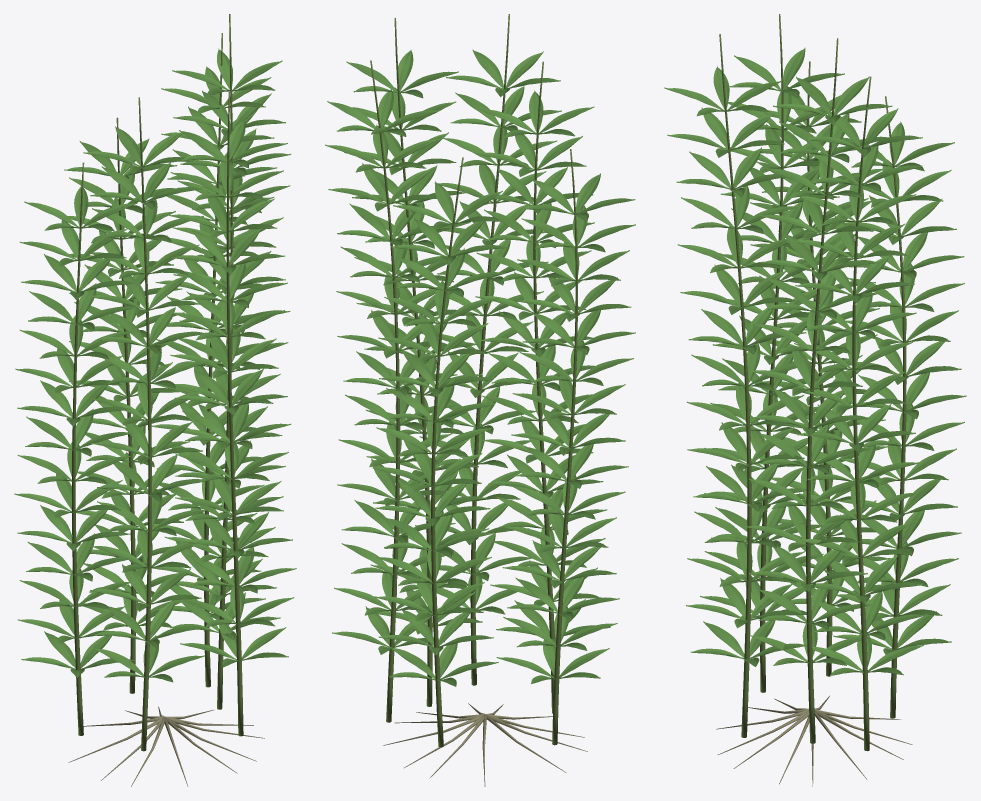
The model's file is waterweed-desktop.glb.
3 renders of one model, left to right at view 1: azimuth 30°, elevation 25°; view 2: azimuth 150°, elevation 25°; view 3: azimuth 270°, elevation 25°, orthographic. The views are drawn at different scales.
Parts seen in each view (by area): view 1: opposite-leaf, branching-stem, anchoring-root; view 2: opposite-leaf, branching-stem, anchoring-root; view 3: opposite-leaf, branching-stem, anchoring-root.
Boxes of the visible parts, x1,y1,x2,y2 form: opposite-leaf: (14, 48, 296, 682); branching-stem: (72, 14, 243, 751); anchoring-root: (68, 706, 264, 786); opposite-leaf: (325, 49, 635, 686); branching-stem: (370, 14, 577, 747); anchoring-root: (383, 703, 587, 786); opposite-leaf: (664, 47, 966, 675); branching-stem: (719, 14, 906, 751); anchoring-root: (716, 696, 912, 786).
Size of the model in its own units: 0.3946 by 0.9807 by 0.3622.
